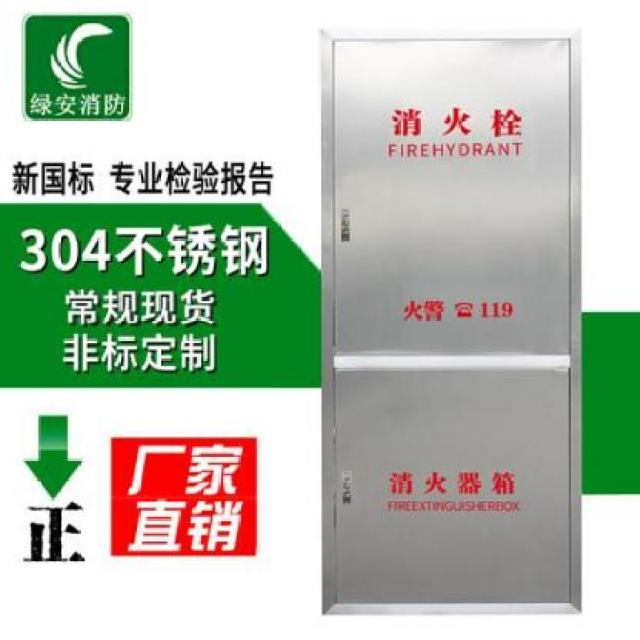firehydrant: (315, 20, 587, 623)
